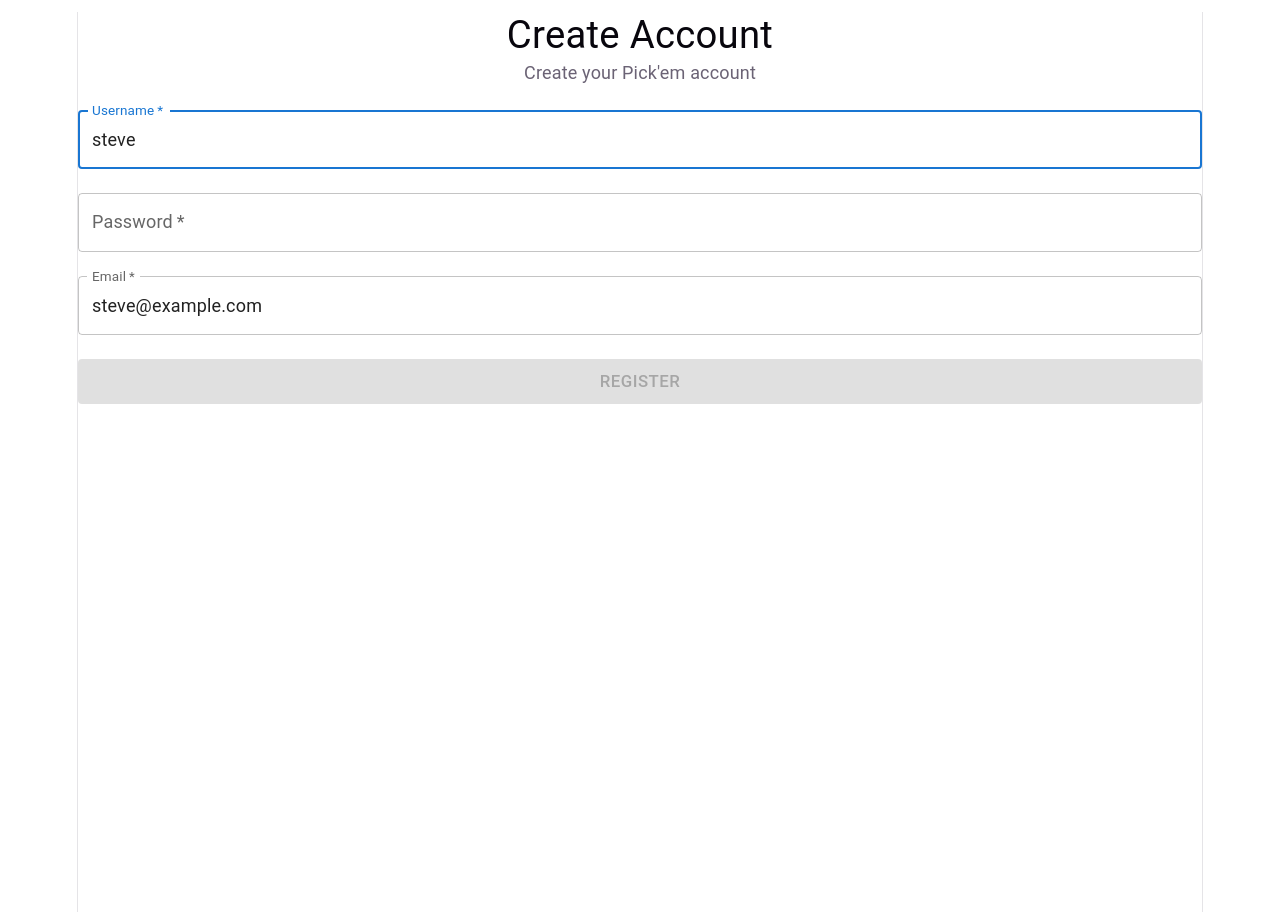
Test: RegistrationForm › enables Register when all fields have values
The image size is (1280, 912).
Type "password123" into the password field labelled "Password *". click: (640, 223)
box: [78,193,1202,252]
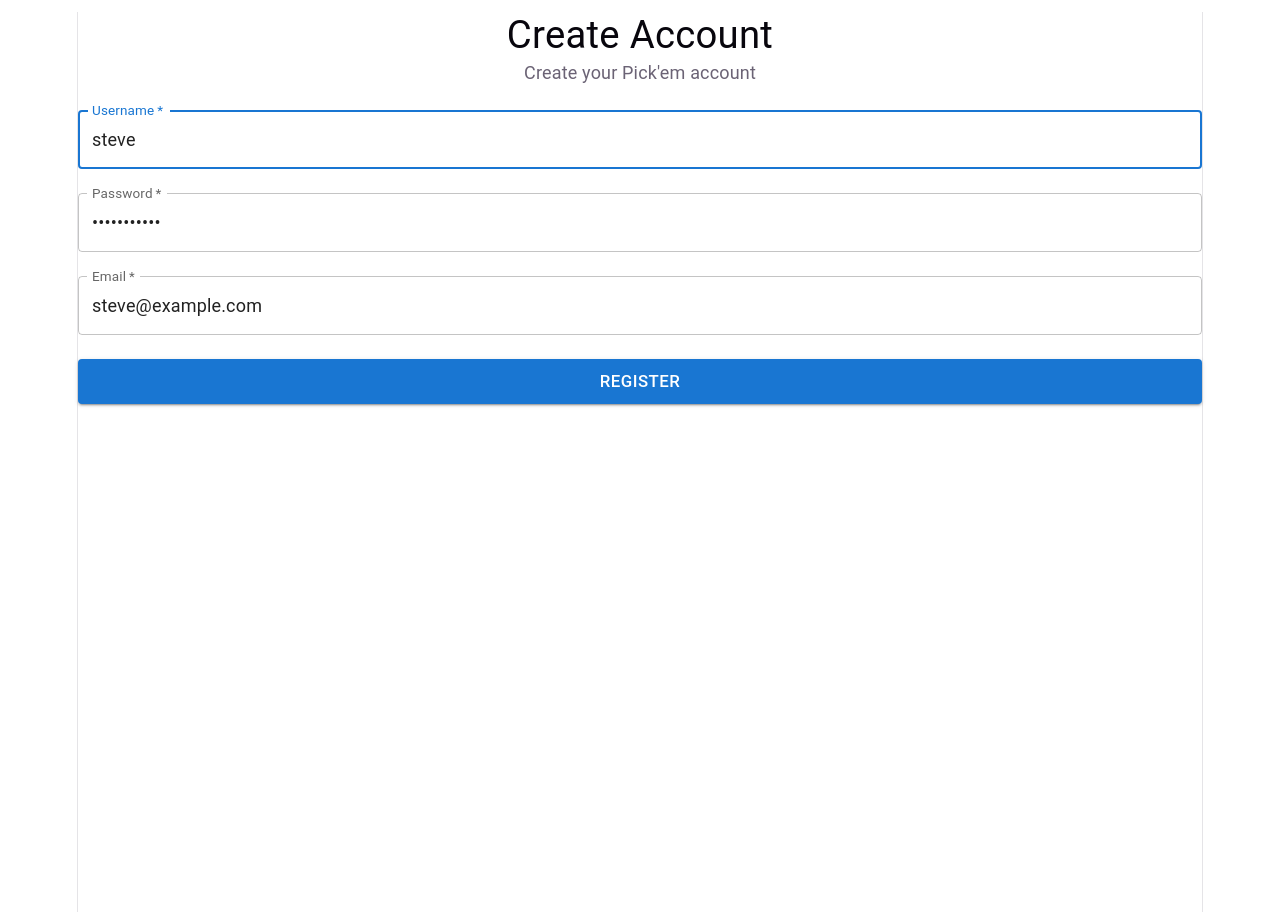
Expected: the button "Register" is enabled, [78,359,1202,404]
